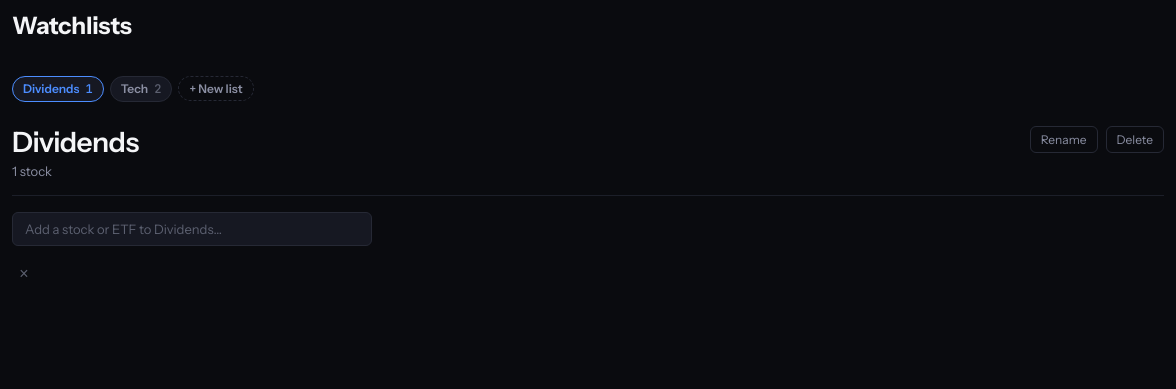
Test: WatchlistsView › creates another list from the chips and opens it
Click the button with class "new-chip" at (216, 89), box [178,76,254,101]
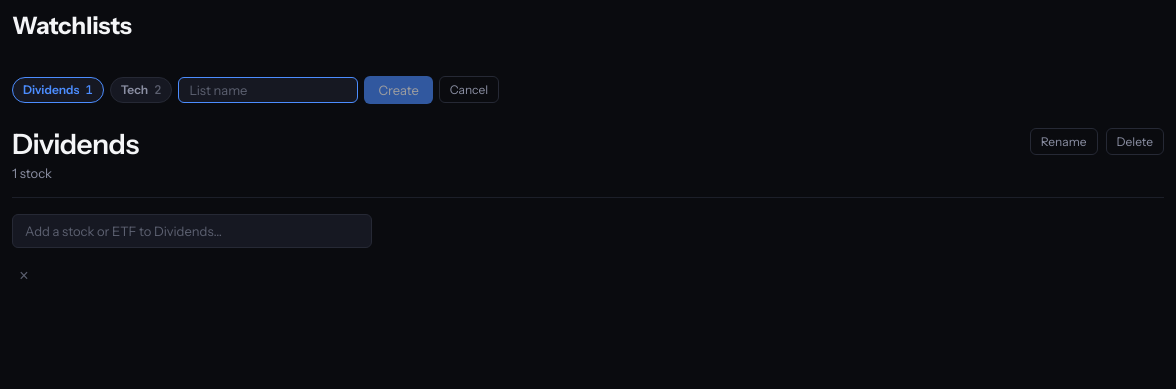
Type "Energy" into the field with placeholder "List name" at (268, 90), box [178,77,358,103]
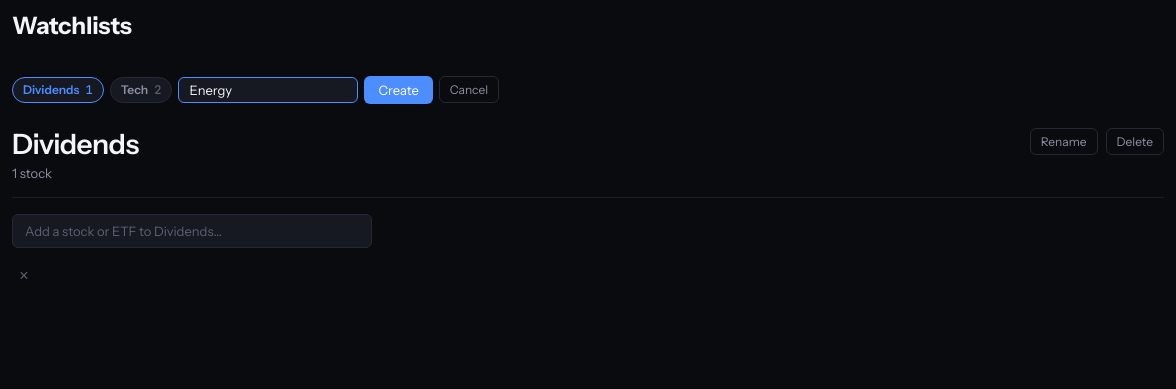
Submit the form with class "chip-create", box [178,76,499,104]
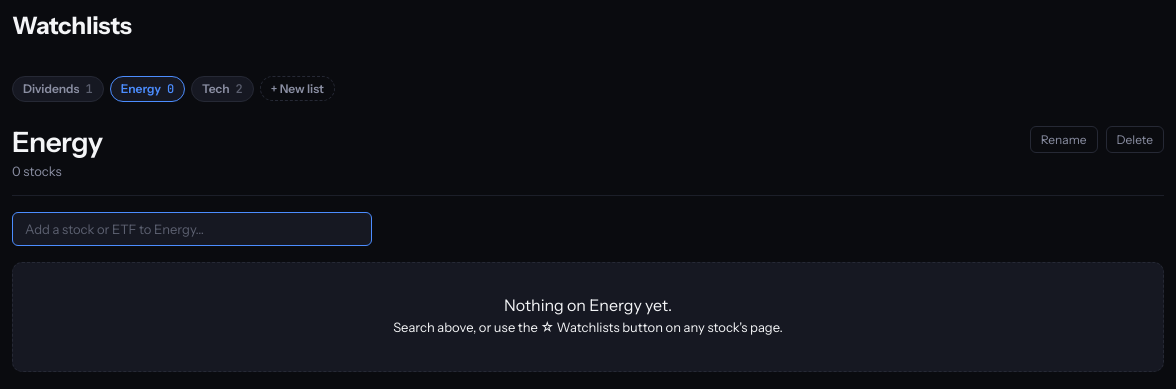
Result: the text with class "chip-name" reads "Energy" at [121,81,161,96]
